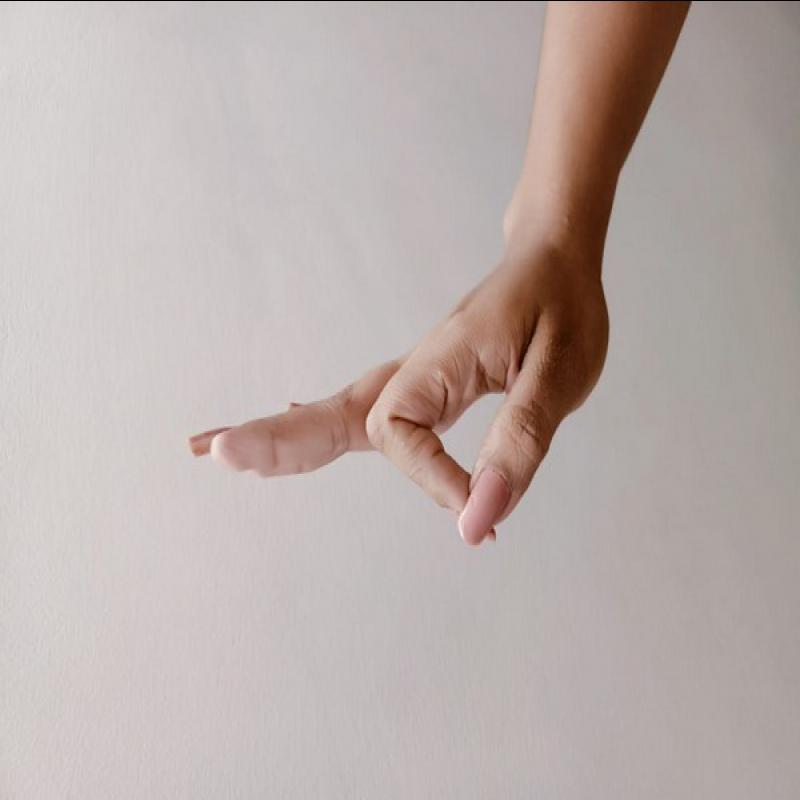Mudraakhyam: (172, 252, 640, 569)
